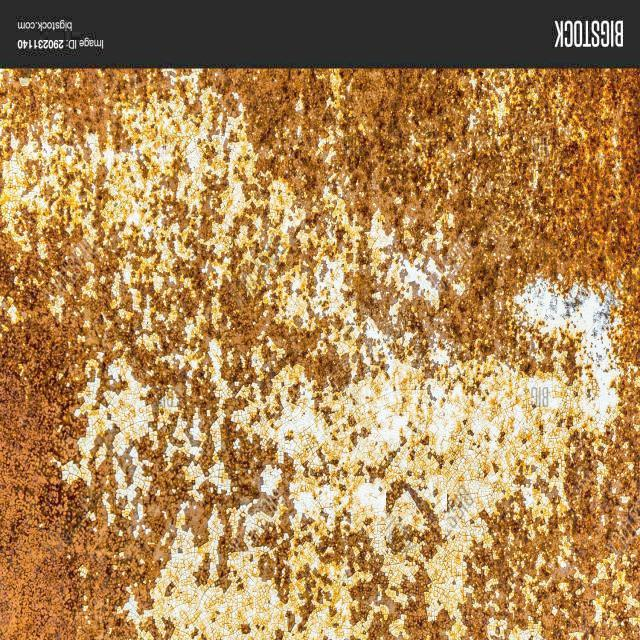Corrosion: (241, 68, 640, 349), (0, 234, 179, 639), (461, 378, 640, 638), (356, 254, 557, 384)
